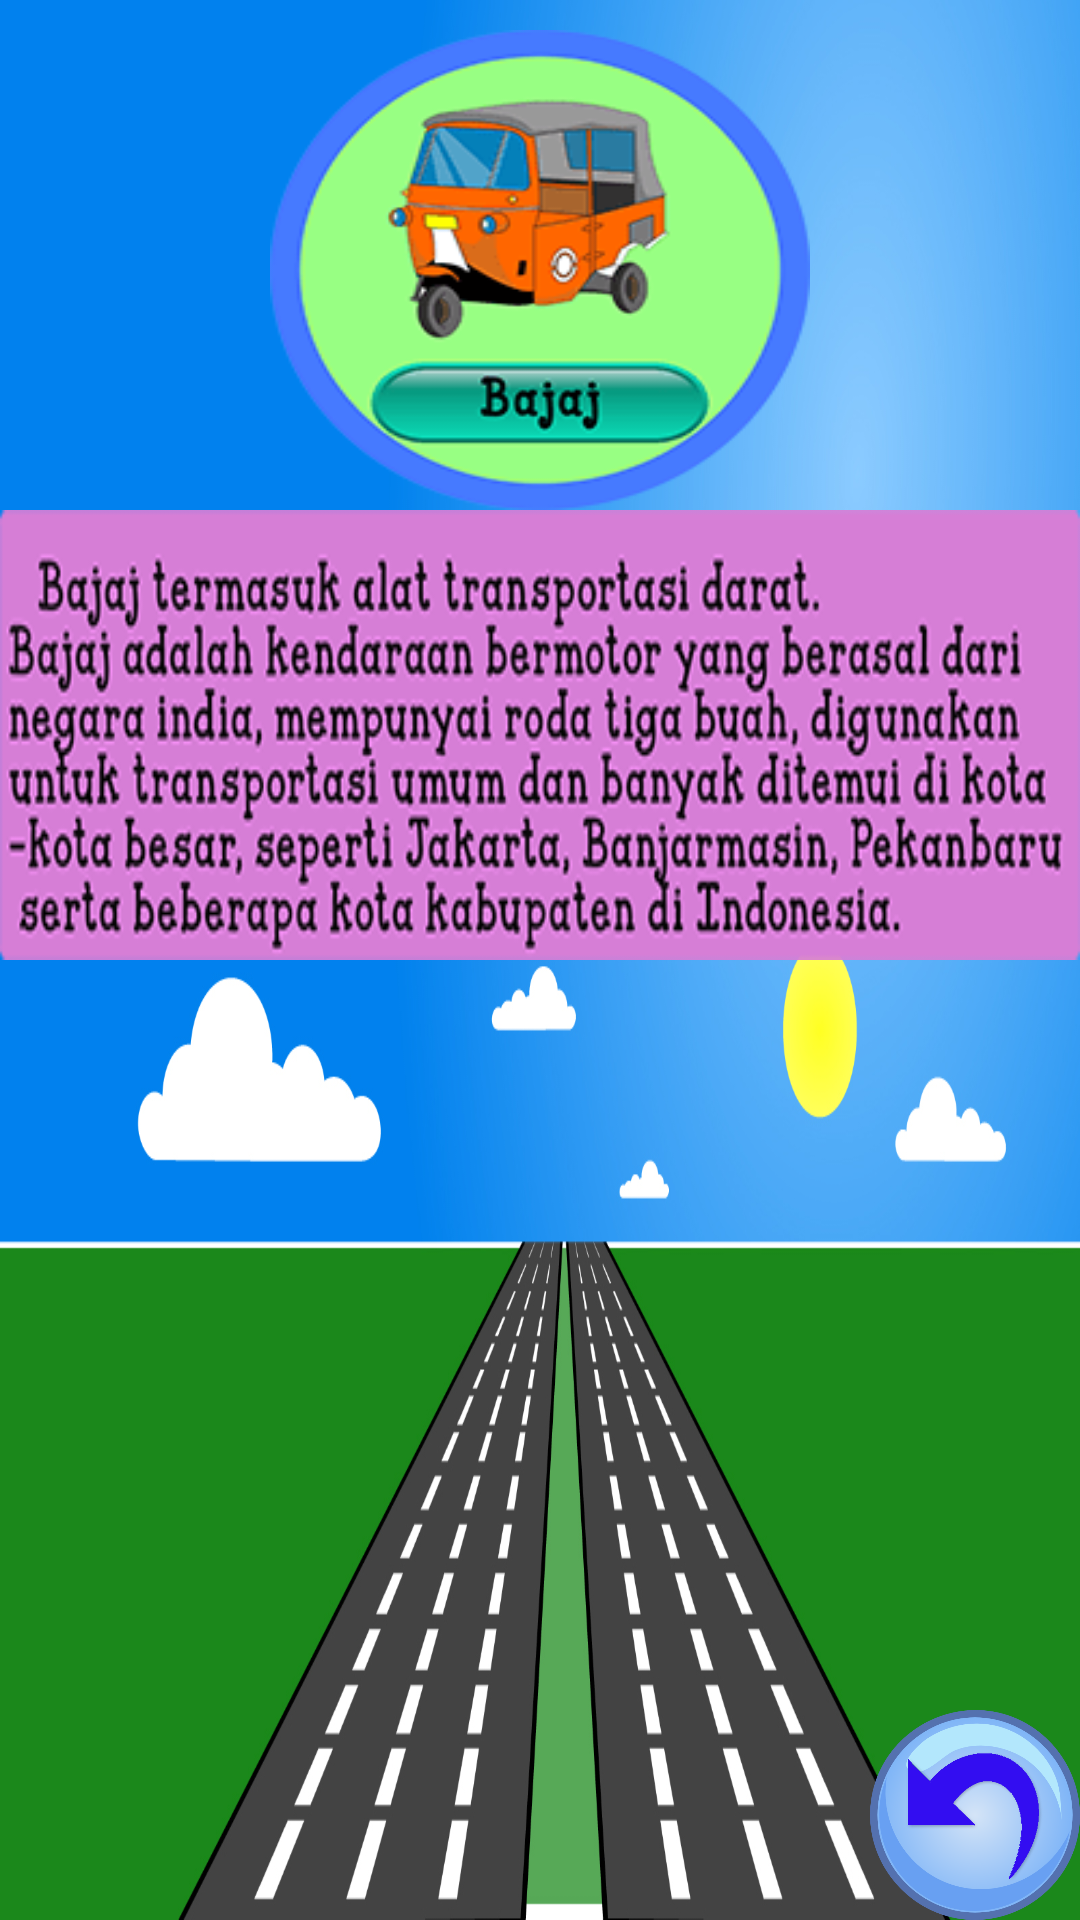

Icons on this 1080 × 1920 Android screen, each with its box as (x1, y1, x2, y2):
back: (870, 1710, 1080, 1920)
